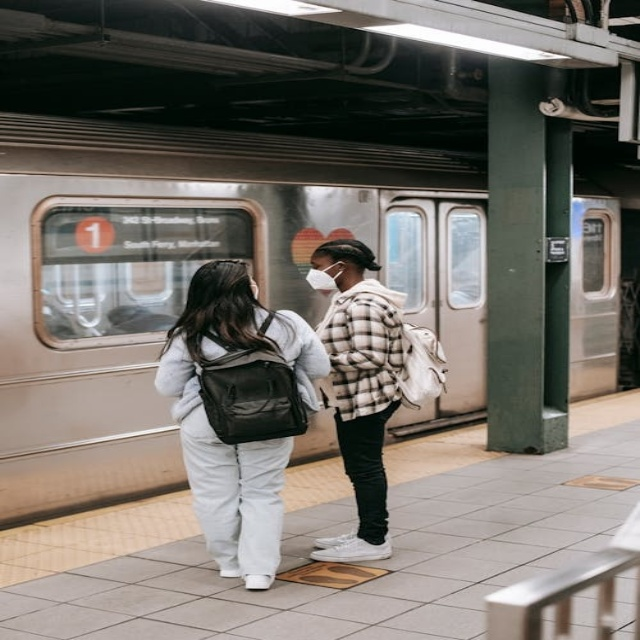Mascara: (305, 262, 344, 290), (249, 279, 259, 300)
Sin_gafas: (307, 256, 333, 270)
